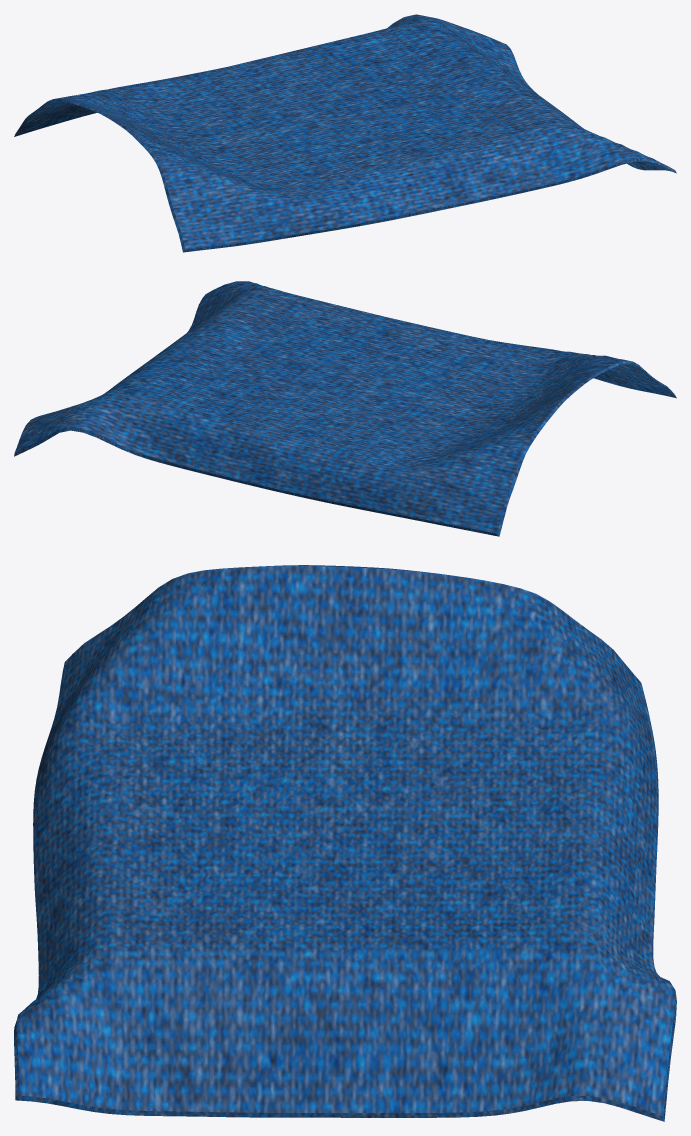
File: blanket.obj
The picture shows the model from 3 angles, top to bottom: view 1: azimuth 30°, elevation 25°; view 2: azimuth 150°, elevation 25°; view 3: azimuth 270°, elevation 25°; orthographic projection. The views are drawn at different scales.
Visible parts, largest first — view 1: blanket; view 2: blanket; view 3: blanket.
Part boxes in pixels (left/top/right/bottom): blanket: left=14, top=14, right=676, bottom=252; blanket: left=14, top=281, right=676, bottom=536; blanket: left=14, top=565, right=676, bottom=1121.
Bounding box in the file's own units: 251 × 55.27 × 179.
